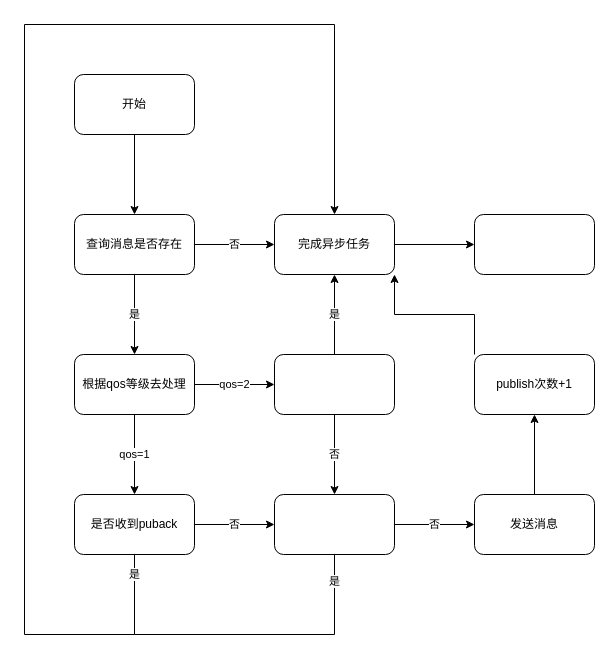
This 612x660 diagram has some shape labels left out. The box of each missing label's shape, as (x1, y1, x2, y2) in pixels:
是否为重复消息: (274, 494, 394, 554)
是否收到pubrec报文: (274, 354, 394, 414)
结束: (474, 214, 594, 274)
